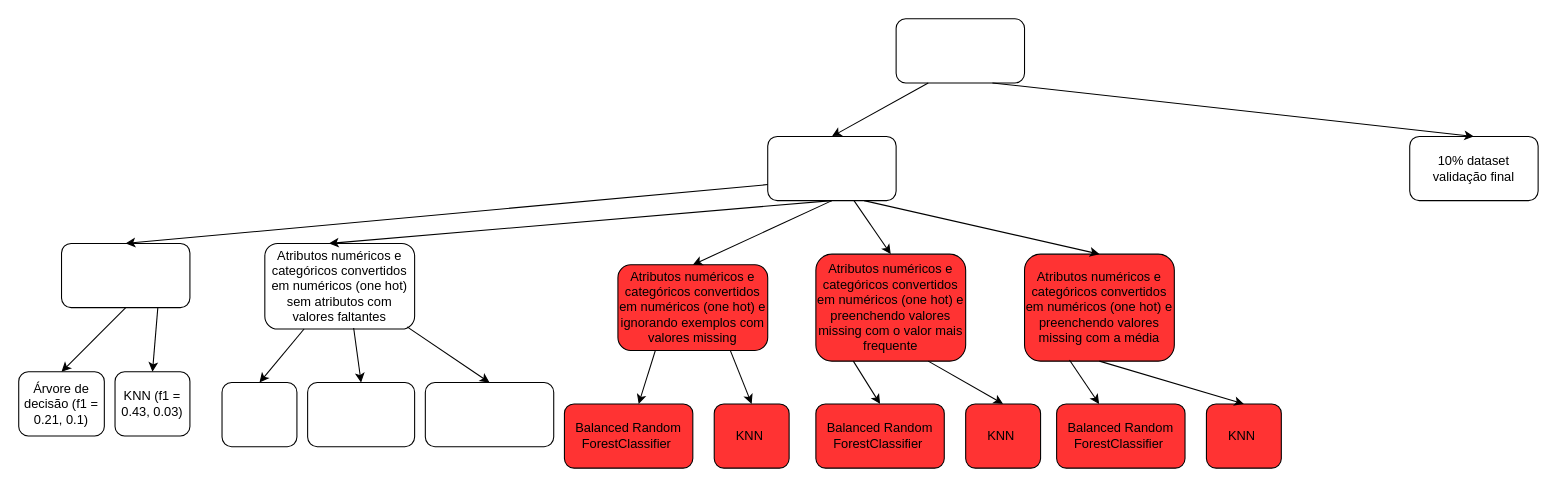
Some shapes in this 1557 by 487 pixel diagram are drawn without their labels. The shapes that lost their labels are listed below. From the top down, each one's centre as x and y in pixels, then its label:
At (960,50): "Dataset inicial".
At (831,168): "90% dataset treino e teste".
At (125,275): "Só com atributos numéricos e sem valores faltantes".
At (259,414): "KNN (f1 = 0.40, 0.07)".
At (361,414): "Random Forest Classifier (f1 = 0.33, 0.07)".
At (489,414): "Balanced Random ForestClassifier (f1 = 0.49, 0.04)".
